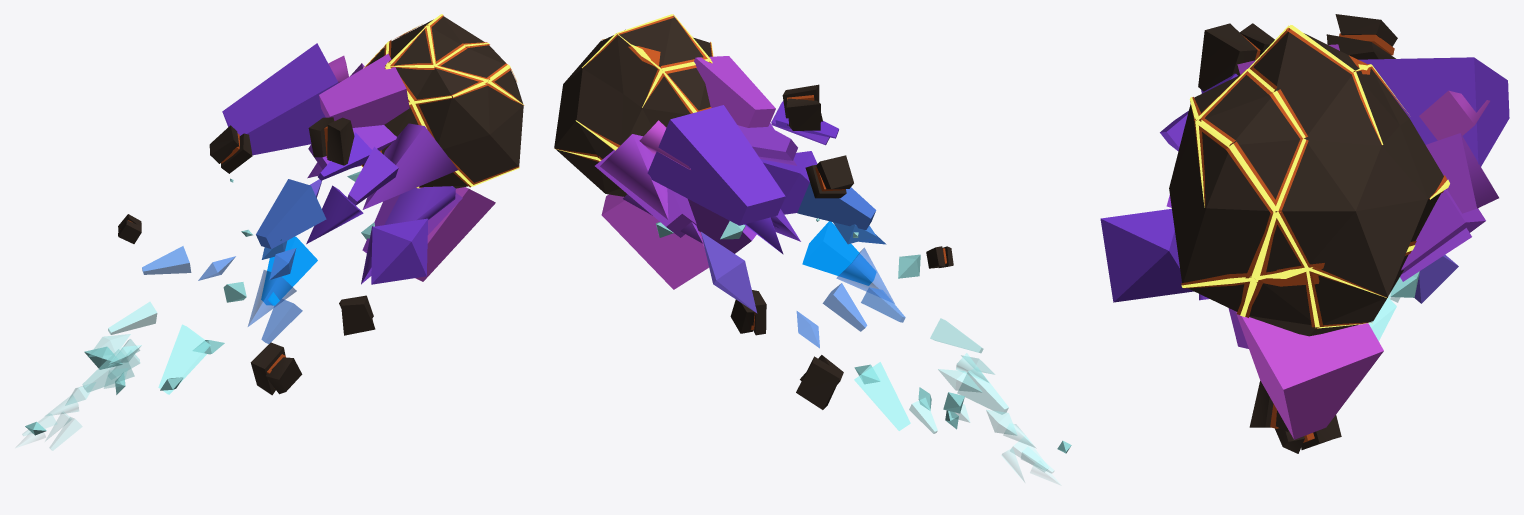
Rendered from fx_meteor.glb.
3 views of the same model, side by side, from view 1: azimuth 30°, elevation 25°; view 2: azimuth 150°, elevation 25°; view 3: azimuth 270°, elevation 25° (orthographic). The views are drawn at different scales.
Parts seen in each view (by area): view 1: meteor_FX_Meteor_Mesh1, meteor_Rock_Mesh1, meteor_FX_Meteor_Mesh4, meteor_FX_Meteor_Mesh3, meteor_Rock_Glow2, meteor_FX_Meteor_Glow2, meteor_FX_Meteor_Glow5, meteor_FX_Meteor_Mesh7, meteor_FX_Meteor_Mesh6, meteor_FX_Meteor_Mesh8; view 2: meteor_FX_Meteor_Mesh1, meteor_Rock_Mesh1, meteor_FX_Meteor_Glow2, meteor_FX_Meteor_Mesh4, meteor_FX_Meteor_Mesh7, meteor_FX_Meteor_Mesh3, meteor_FX_Meteor_Glow5, meteor_FX_Meteor_Mesh6, meteor_Rock_Glow2, meteor_FX_Meteor_Mesh8; view 3: meteor_Rock_Mesh1, meteor_FX_Meteor_Mesh1, meteor_Rock_Glow2, meteor_FX_Meteor_Glow5.
Boxes of the visible parts, x1=… form: meteor_FX_Meteor_Mesh1: x1=25, y1=43, x2=495, y2=435; meteor_Rock_Mesh1: x1=361, y1=15, x2=523, y2=188; meteor_FX_Meteor_Mesh4: x1=142, y1=246, x2=302, y2=343; meteor_FX_Meteor_Mesh3: x1=108, y1=270, x2=296, y2=334; meteor_Rock_Glow2: x1=361, y1=14, x2=524, y2=188; meteor_FX_Meteor_Glow2: x1=261, y1=236, x2=317, y2=305; meteor_FX_Meteor_Glow5: x1=158, y1=324, x2=210, y2=394; meteor_FX_Meteor_Mesh7: x1=82, y1=339, x2=141, y2=392; meteor_FX_Meteor_Mesh6: x1=65, y1=334, x2=130, y2=405; meteor_FX_Meteor_Mesh8: x1=22, y1=394, x2=82, y2=450; meteor_FX_Meteor_Mesh1: x1=595, y1=56, x2=1071, y2=453; meteor_Rock_Mesh1: x1=554, y1=15, x2=712, y2=196; meteor_FX_Meteor_Glow2: x1=802, y1=221, x2=876, y2=285; meteor_FX_Meteor_Mesh4: x1=796, y1=283, x2=905, y2=348; meteor_FX_Meteor_Mesh7: x1=909, y1=353, x2=1008, y2=433; meteor_FX_Meteor_Mesh3: x1=836, y1=247, x2=983, y2=353; meteor_FX_Meteor_Glow5: x1=854, y1=362, x2=910, y2=430; meteor_FX_Meteor_Mesh6: x1=938, y1=369, x2=1017, y2=435; meteor_Rock_Glow2: x1=555, y1=14, x2=713, y2=161; meteor_FX_Meteor_Mesh8: x1=1001, y1=423, x2=1053, y2=481; meteor_Rock_Mesh1: x1=1169, y1=27, x2=1447, y2=336; meteor_FX_Meteor_Mesh1: x1=1100, y1=14, x2=1509, y2=453; meteor_Rock_Glow2: x1=1181, y1=25, x2=1449, y2=328; meteor_FX_Meteor_Glow5: x1=1368, y1=297, x2=1396, y2=341.
Size of the model in its own units: 9.43 by 7.76 by 4.29.
